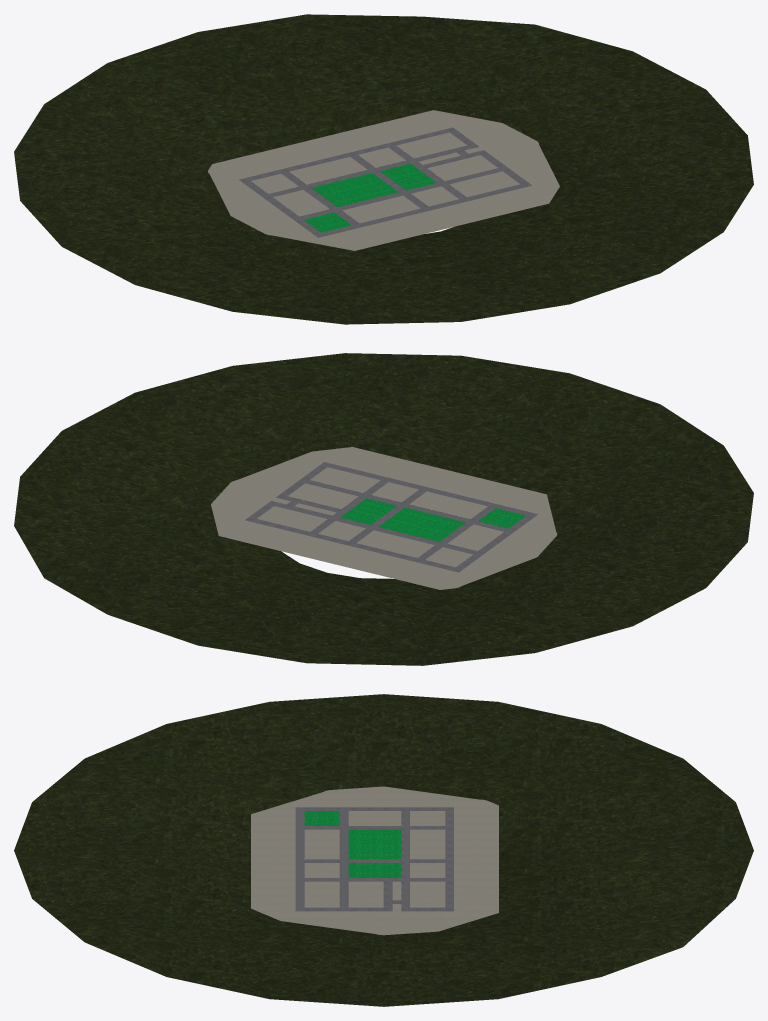
The model's file is floor.glb.
3 views of the same model, one above another, from view 1: azimuth 30°, elevation 25°; view 2: azimuth 150°, elevation 25°; view 3: azimuth 270°, elevation 25° (orthographic).
Parts seen in each view (by area): view 1: pCylinder17__nbc_EnkeiGrass_k0_a6, Plane.000, Plane.149; view 2: pCylinder17__nbc_EnkeiGrass_k0_a6, Plane.000, Plane.149; view 3: pCylinder17__nbc_EnkeiGrass_k0_a6, Plane.000, Plane.149.
Boxes of the visible parts, x1,y1,x2,y2 form: pCylinder17__nbc_EnkeiGrass_k0_a6: (14, 14, 753, 324); Plane.000: (208, 110, 559, 250); Plane.149: (239, 127, 531, 237); pCylinder17__nbc_EnkeiGrass_k0_a6: (14, 353, 753, 665); Plane.000: (211, 447, 557, 589); Plane.149: (245, 462, 537, 572); pCylinder17__nbc_EnkeiGrass_k0_a6: (14, 694, 753, 1006); Plane.000: (251, 786, 498, 935); Plane.149: (295, 807, 453, 911).
Size of the model in its own units: 437 by 14.42 by 437.
Materials: 4 (4 with a texture image).
